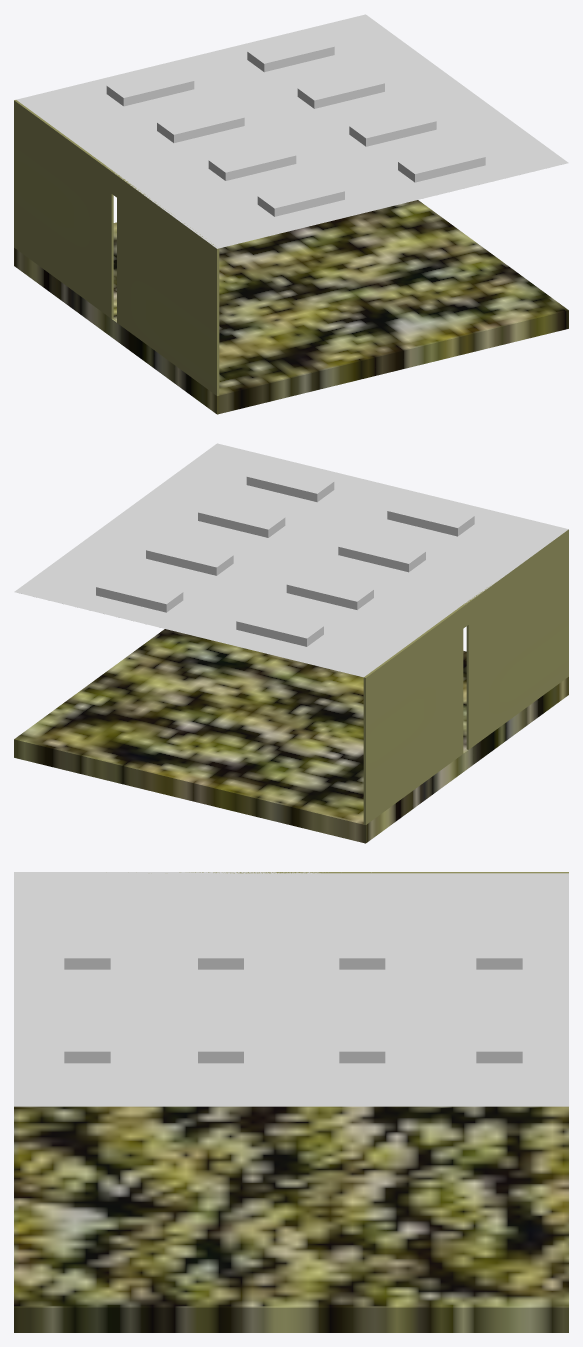
Rendered from BackroomsLevelZero - 6.fbx.
3 views of the same model, one above another, from view 1: azimuth 30°, elevation 25°; view 2: azimuth 150°, elevation 25°; view 3: azimuth 270°, elevation 25° (orthographic). The views are drawn at different scales.
Parts seen in each view (by area): view 1: Floor.021, Floor.014, Wall.039, Cube.157, Cube.155, Cube.158, Cube.161, Cube.156, Cube.162, Cube.159, Cube.160; view 2: Floor.021, Floor.014, Wall.039, Cube.162, Cube.158, Cube.159, Cube.157, Cube.155, Cube.156, Cube.161, Cube.160; view 3: Floor.014, Floor.021, Cube.158, Cube.162, Cube.159, Cube.155, Cube.156, Cube.161, Cube.160, Cube.157, Wall.039.
Boxes of the visible parts, <box> form: Floor.021: <box>16,14,568,248</box>; Floor.014: <box>14,200,568,414</box>; Wall.039: <box>14,100,219,395</box>; Cube.157: <box>208,143,296,180</box>; Cube.155: <box>106,68,194,106</box>; Cube.158: <box>247,34,334,72</box>; Cube.161: <box>257,179,344,216</box>; Cube.156: <box>157,105,244,142</box>; Cube.162: <box>398,144,485,182</box>; Cube.159: <box>297,71,384,108</box>; Cube.160: <box>349,109,436,146</box>; Floor.021: <box>14,443,568,677</box>; Floor.014: <box>14,629,568,843</box>; Wall.039: <box>363,529,568,824</box>; Cube.162: <box>246,464,334,502</box>; Cube.158: <box>96,575,183,612</box>; Cube.159: <box>146,538,233,575</box>; Cube.157: <box>338,534,425,572</box>; Cube.155: <box>236,609,323,646</box>; Cube.156: <box>286,572,373,609</box>; Cube.161: <box>387,498,474,536</box>; Cube.160: <box>198,500,285,537</box>; Floor.014: <box>14,1106,568,1332</box>; Floor.021: <box>14,872,568,1106</box>; Cube.158: <box>476,1004,522,1063</box>; Cube.162: <box>64,1004,110,1063</box>; Cube.159: <box>339,1004,385,1063</box>; Cube.155: <box>476,911,522,969</box>; Cube.156: <box>339,911,385,969</box>; Cube.161: <box>64,911,110,969</box>; Cube.160: <box>198,1004,243,1063</box>; Cube.157: <box>198,911,243,969</box>; Wall.039: <box>179,872,568,873</box>.
Bounding box in the file's own units: 2000 × 946 × 2000.
